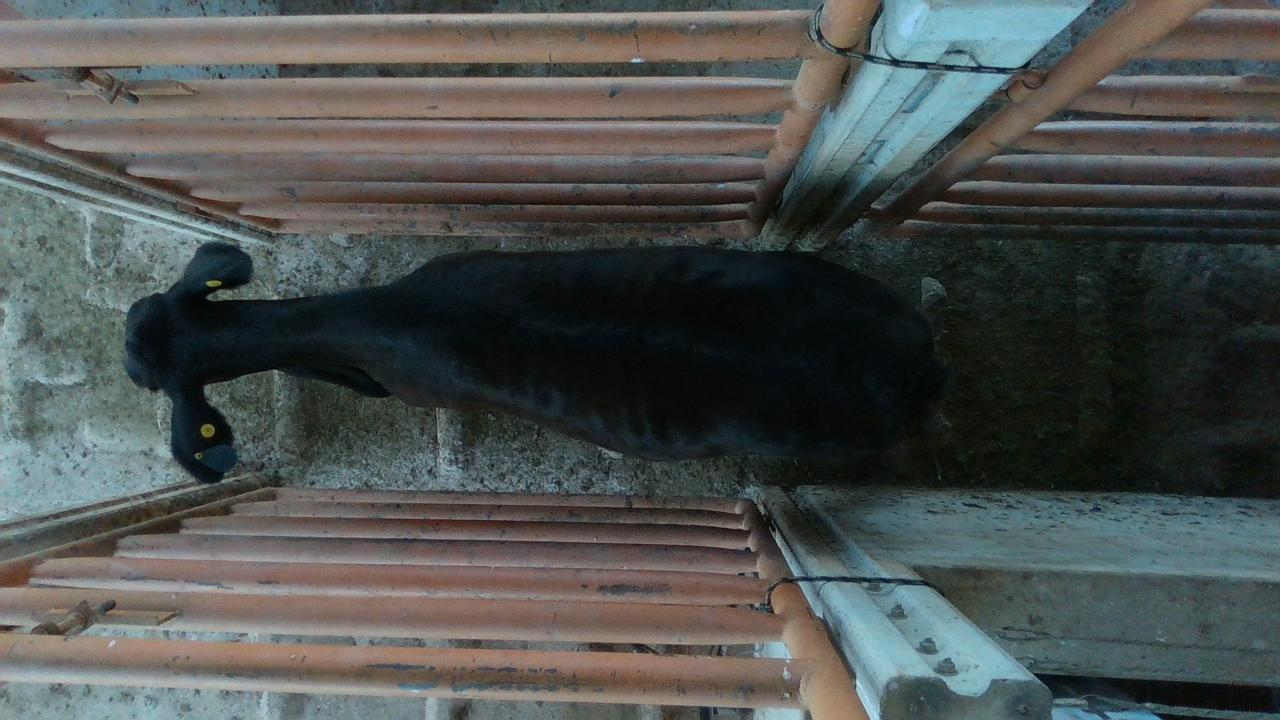cattle: (122, 239, 948, 482)
